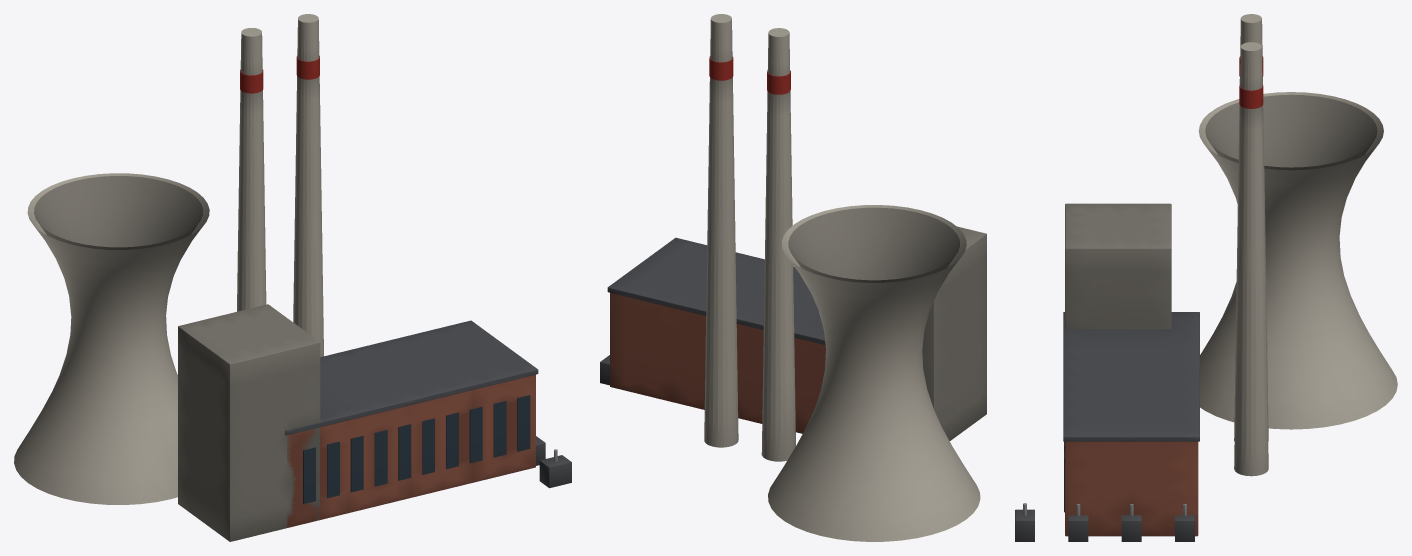
Rendered from power_plant.glb.
3 views of the same model, side by side, from view 1: azimuth 30°, elevation 25°; view 2: azimuth 150°, elevation 25°; view 3: azimuth 270°, elevation 25° (orthographic).
Parts seen in each view (by area): view 1: Cone; view 2: Cone; view 3: Cone.
Part boxes in pixels (x1,y1,x2,y2): Cone: (14, 14, 571, 541); Cone: (600, 14, 986, 541); Cone: (1015, 14, 1397, 541).
Bounding box in the file's own units: 72 × 70 × 57.5.
